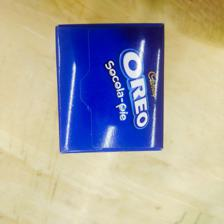Oreo: (54, 22, 166, 154)
